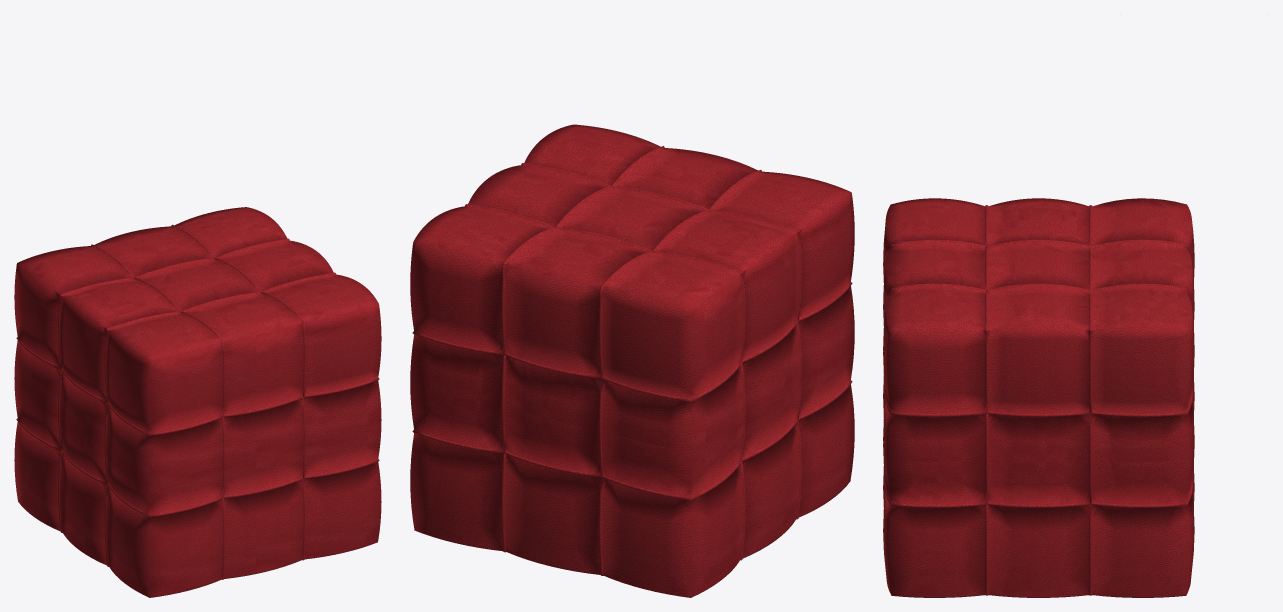
The model's file is pouf.dae.
The picture shows the model from 3 angles, left to right: view 1: azimuth 30°, elevation 25°; view 2: azimuth 150°, elevation 25°; view 3: azimuth 270°, elevation 25°; orthographic projection. The views are drawn at different scales.
Visible parts, largest first — view 1: Bob; view 2: Bob; view 3: Bob.
Part boxes in pixels (x1,y1,x2,y2): Bob: (14,207,381,597); Bob: (410,124,854,597); Bob: (883,198,1194,597).
Size of the model in its own units: 12.13 by 15.02 by 21.29.
Materials: 1 (1 with a texture image).
